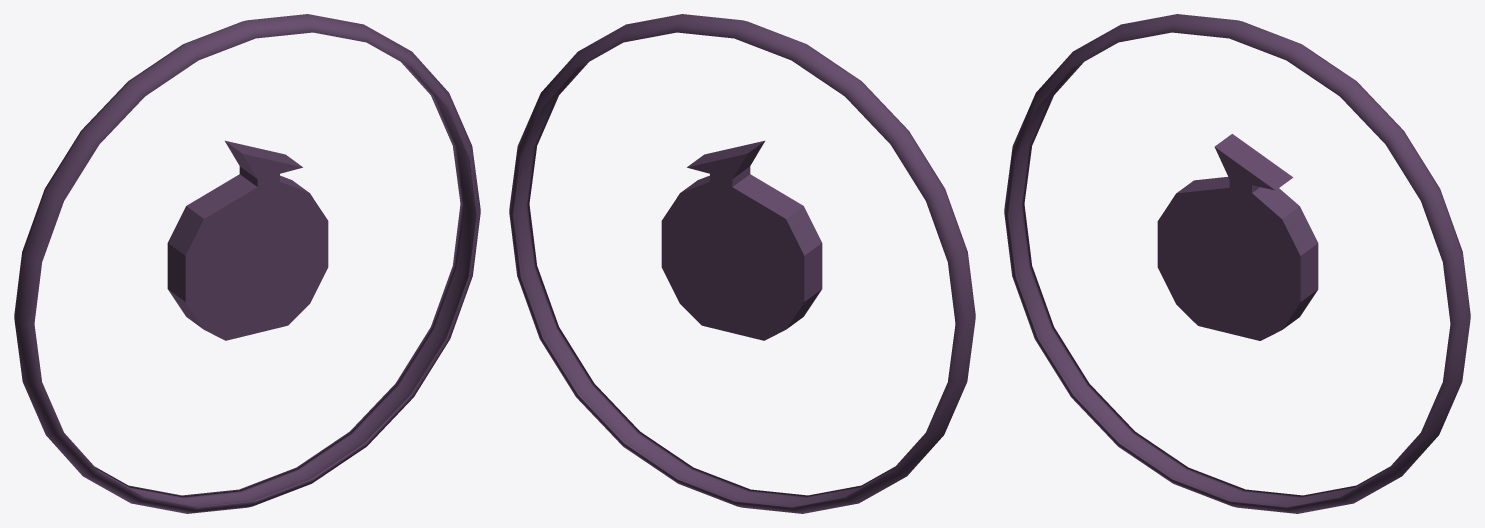
The model's file is Powerup_scrap.glb.
3 views of the same model, side by side, from view 1: azimuth 30°, elevation 25°; view 2: azimuth 150°, elevation 25°; view 3: azimuth 330°, elevation 25° (orthographic).
Visible parts, largest first — view 1: Ring, Emblem; view 2: Ring, Emblem; view 3: Ring, Emblem.
Part boxes in pixels (left/top/right/bottom): Ring: left=14, top=14, right=480, bottom=513; Emblem: left=167, top=140, right=328, bottom=340; Ring: left=509, top=14, right=975, bottom=513; Emblem: left=661, top=140, right=822, bottom=340; Ring: left=1004, top=14, right=1470, bottom=513; Emblem: left=1157, top=134, right=1318, bottom=340.
Size of the model in its own units: 0.0772 by 0.0772 by 0.00512.
